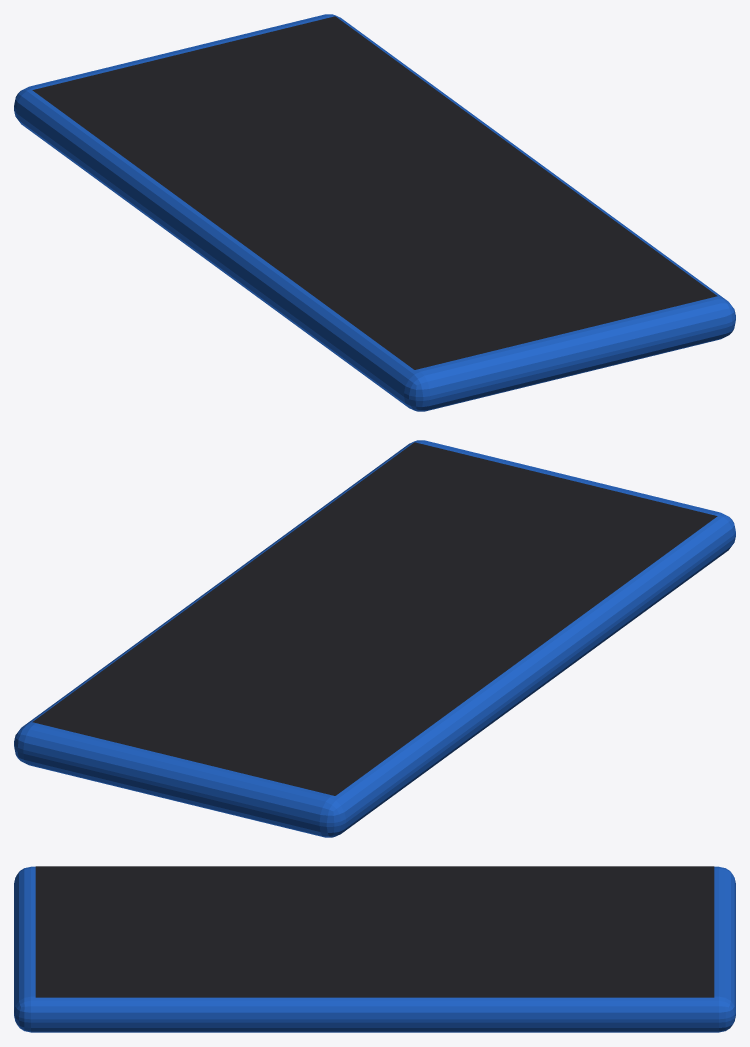
File: xiaomi-redmi-note-model-87-flagship-2025.glb
3 renders of one model, top to bottom at view 1: azimuth 30°, elevation 25°; view 2: azimuth 150°, elevation 25°; view 3: azimuth 270°, elevation 25°, orthographic. The views are drawn at different scales.
Visible parts, largest first — view 1: Phone_Screen, Phone_Body; view 2: Phone_Screen, Phone_Body; view 3: Phone_Screen, Phone_Body.
Boxes of the visible parts, box(x1,y1,x2,y2) form: Phone_Screen: box(32, 16, 717, 369); Phone_Body: box(14, 14, 735, 411); Phone_Screen: box(32, 442, 717, 795); Phone_Body: box(14, 440, 735, 837); Phone_Screen: box(35, 866, 714, 997); Phone_Body: box(14, 866, 735, 1032).
Size of the model in its own units: 0.0714 by 0.0081 by 0.1527.
